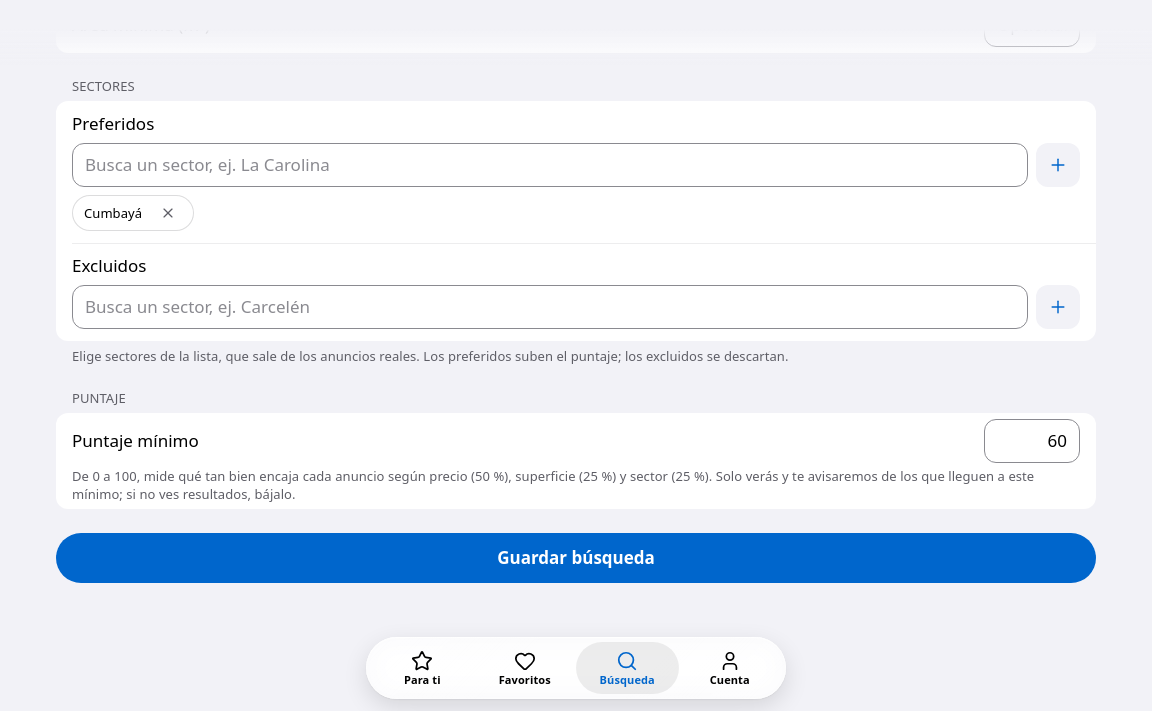
Test: SearchProfilePage › sharing › prefills a received search and saves it over the current one
The width and height of the screenshot is (1152, 711).
(page scrolled)
Click the button "Guardar búsqueda". click: (576, 558)
box: [56, 533, 1096, 583]
(page scrolled)
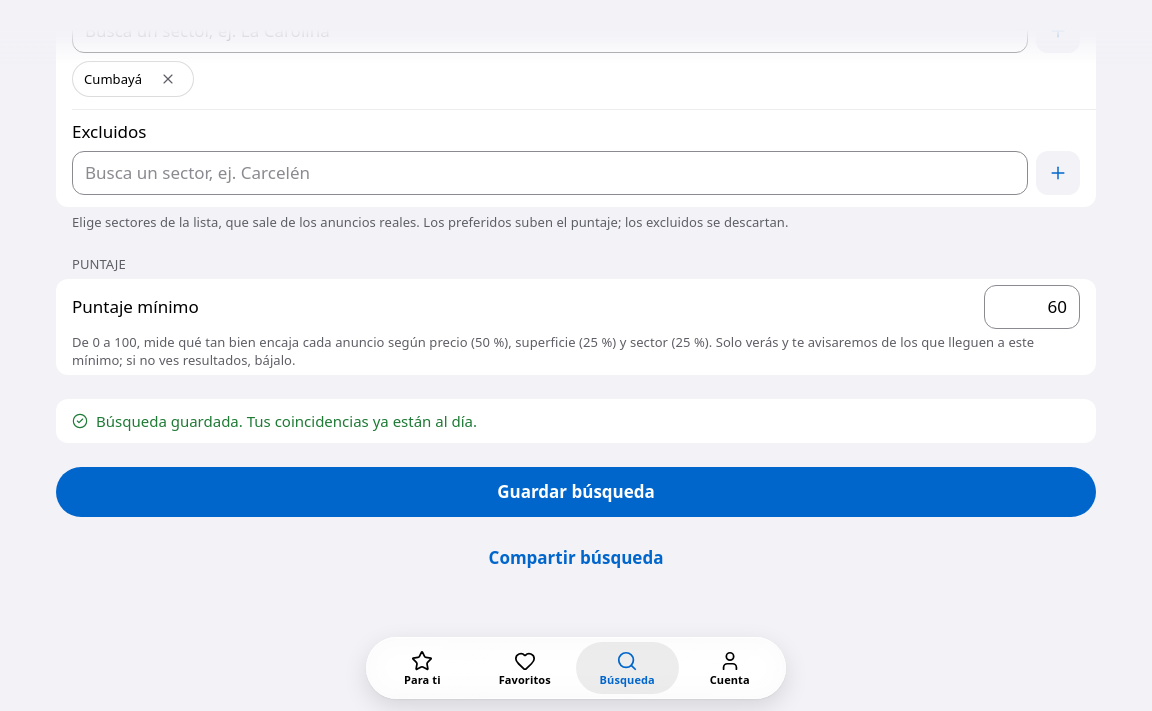
Now the message shows "Búsqueda guardada", box [96, 411, 477, 431]
